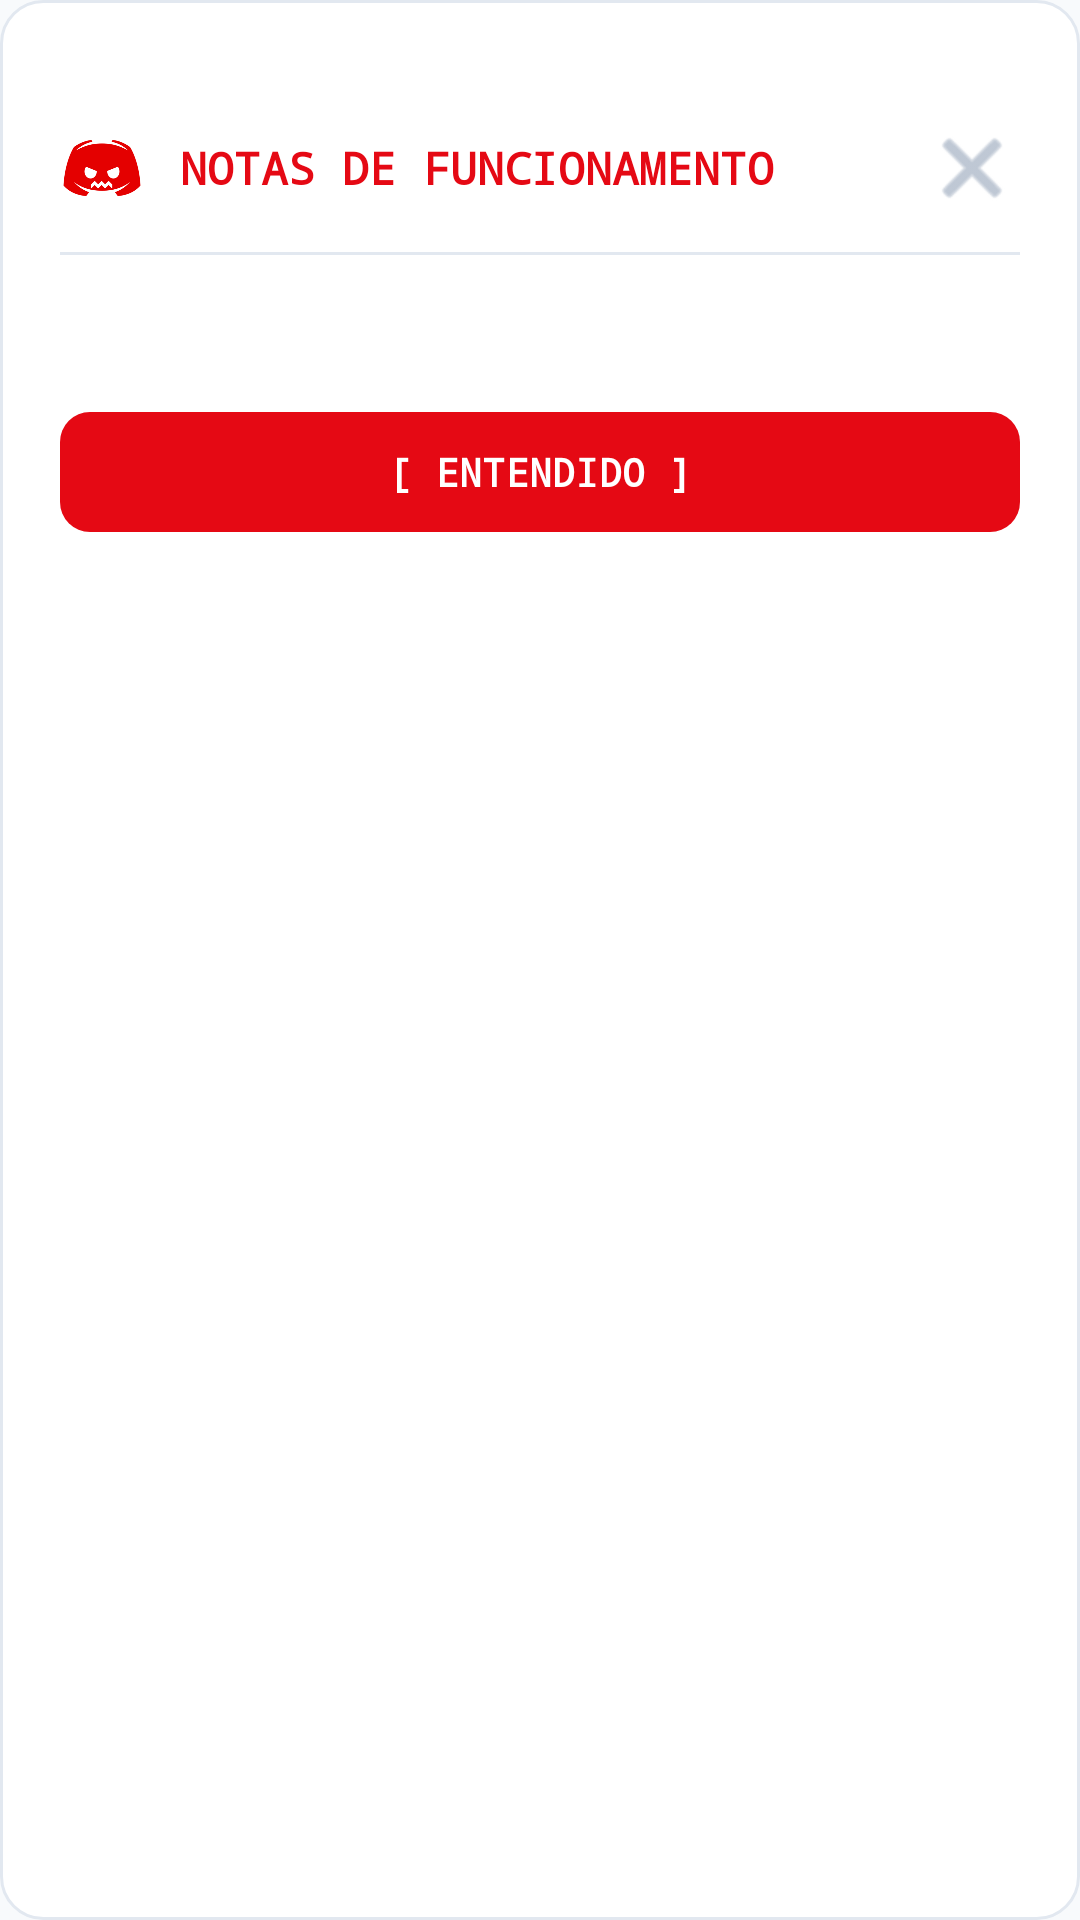

Icons on this 1080x1920 Android screen, each with its box as {"x1": x1, "y1": y1, "x2": x2, "y2": y2}:
close clear cancel: {"x1": 943, "y1": 139, "x2": 1001, "y2": 197}
